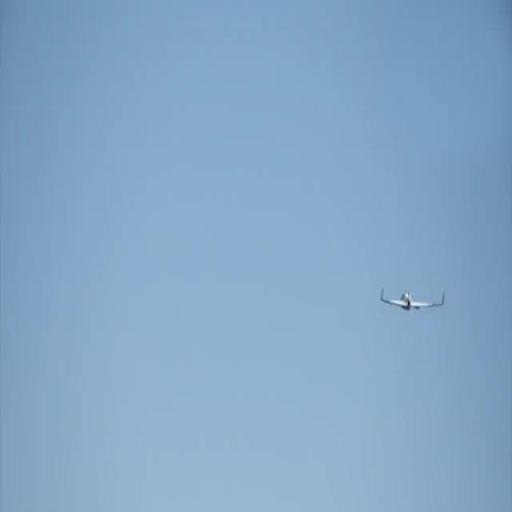uav: (377, 282, 447, 324)
